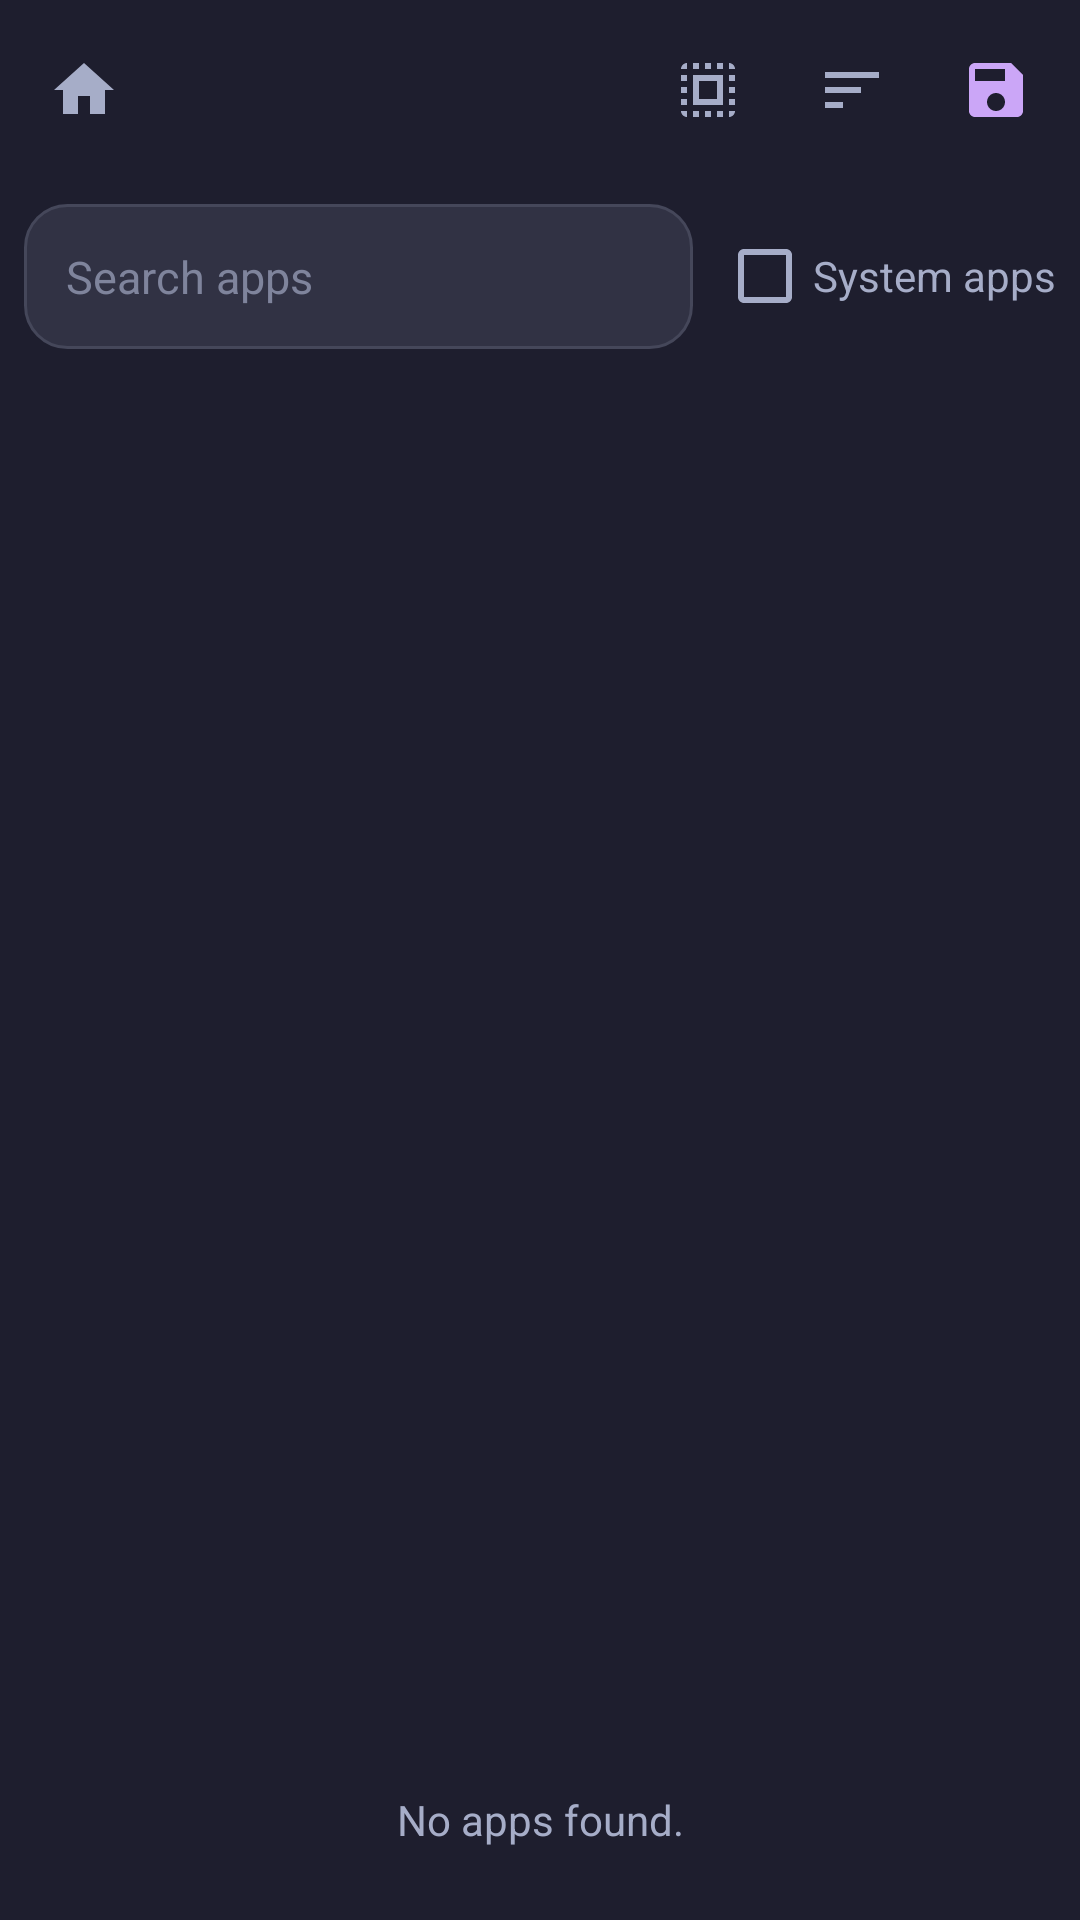

Locate icon controls on the screen. Image size 1080w x 1920h, boxes as (x1, y1, x2, y2).
Save: (969, 63, 1023, 117)
Select All: (681, 63, 735, 117)
Sort: (825, 72, 879, 108)
